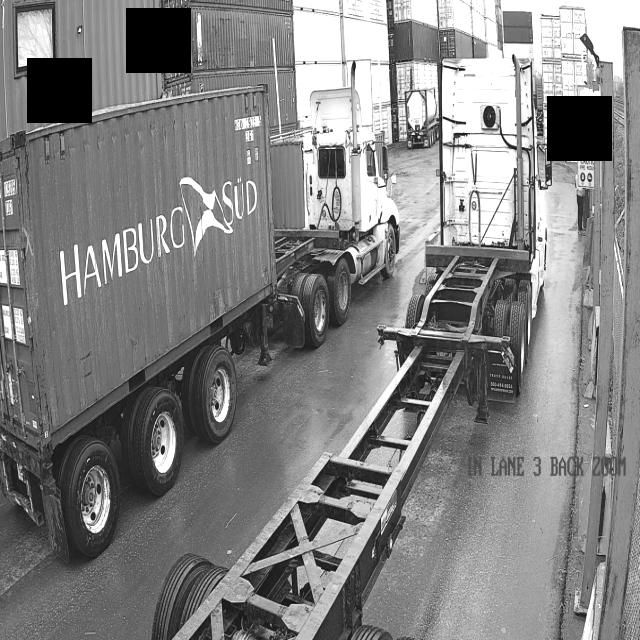container_company_logo: (55, 158, 261, 319)
truck_with_container: (0, 85, 400, 561)
truck_without_container: (151, 59, 551, 640)
